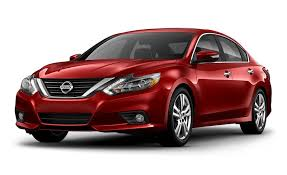Nissan: (17, 31, 264, 133)
